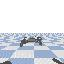drone: (19, 35, 43, 47)
